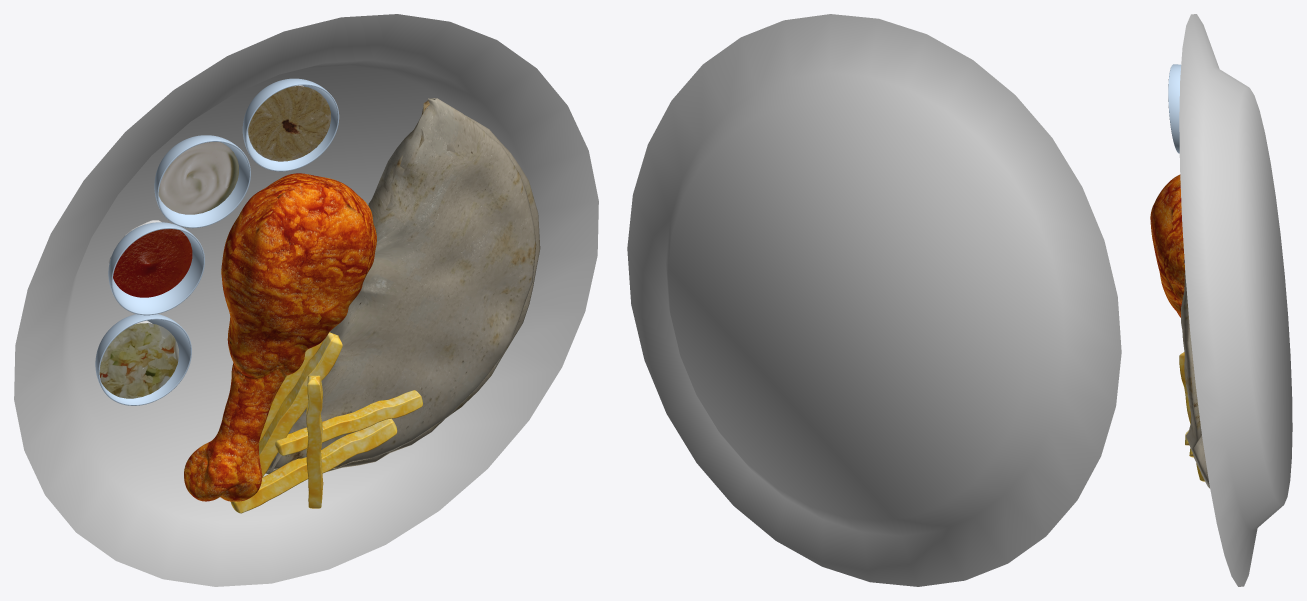
Rendered from broasted-v1.glb.
3 renders of one model, left to right at view 1: azimuth 30°, elevation 25°; view 2: azimuth 150°, elevation 25°; view 3: azimuth 270°, elevation 25°, orthographic. The views are drawn at different scales.
Visible parts, largest first — view 1: Circle.001, Cylinder, 15513_Fried_Chicken_Drumstick_v1, coffee.001, coffee.004, coffee.002, coffee.003, Cube.001, Kugel.002, Cube.002, Kugel.001, Cube.003 (+4 smaller); view 2: Circle.001; view 3: Circle.001, 15513_Fried_Chicken_Drumstick_v1, Cylinder, Kugel.004, Cube.004.
Boxes of the visible parts, left/top/right/bottom form: Circle.001: left=14, top=14, right=598, bottom=586; Cylinder: left=265, top=98, right=540, bottom=473; 15513_Fried_Chicken_Drumstick_v1: left=184, top=173, right=376, bottom=501; coffee.001: left=247, top=85, right=330, bottom=161; coffee.004: left=99, top=320, right=178, bottom=398; coffee.002: left=158, top=142, right=238, bottom=214; coffee.003: left=108, top=220, right=192, bottom=297; Cube.001: left=231, top=418, right=397, bottom=513; Kugel.002: left=108, top=222, right=204, bottom=315; Cube.002: left=259, top=332, right=342, bottom=477; Kugel.001: left=154, top=135, right=250, bottom=228; Cube.003: left=275, top=390, right=422, bottom=455; Circle.001: left=627, top=14, right=1121, bottom=586; Circle.001: left=1179, top=14, right=1292, bottom=586; 15513_Fried_Chicken_Drumstick_v1: left=1150, top=174, right=1184, bottom=317; Cylinder: left=1181, top=270, right=1209, bottom=488; Kugel.004: left=1168, top=64, right=1181, bottom=153; Cube.004: left=1179, top=352, right=1204, bottom=481.
Bounding box in the file's own units: 8.73 × 8.68 × 2.16.
16 materials, 11 textured.
